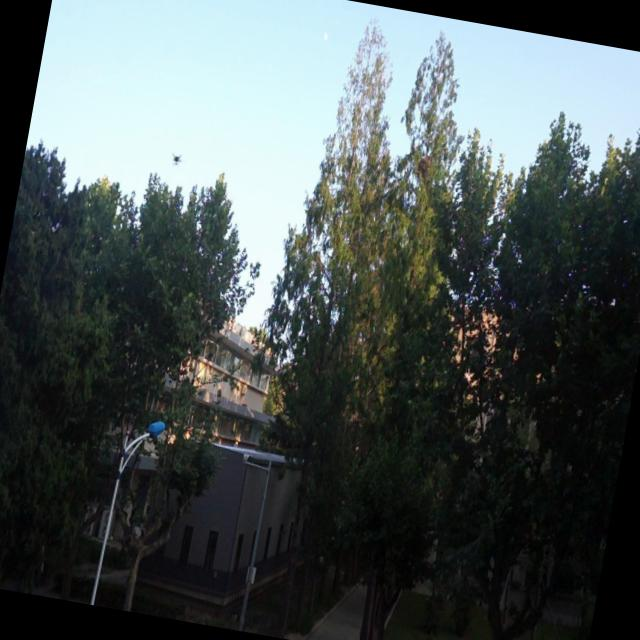drone: (169, 150, 181, 170)
